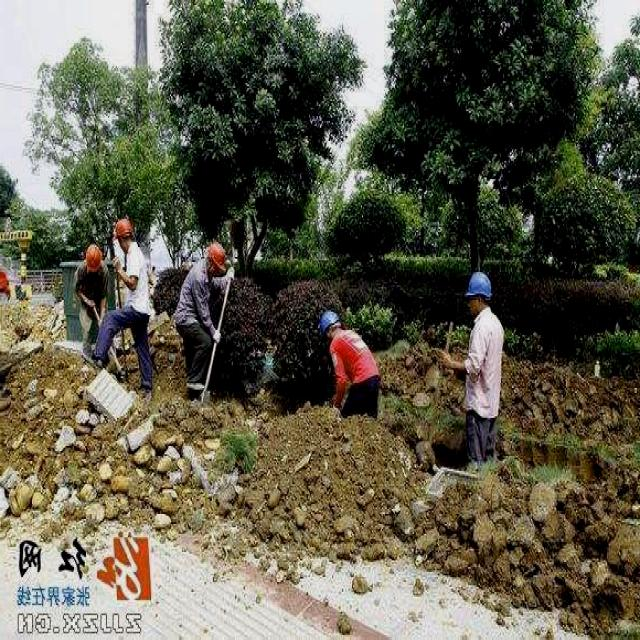hand_glove: (224, 267, 237, 292), (208, 330, 223, 348)
hand_noglove: (435, 343, 452, 375), (110, 252, 125, 280)
head_helmet: (462, 269, 494, 300), (204, 237, 229, 275), (82, 242, 104, 274), (110, 214, 132, 239), (319, 313, 340, 335)
person: (456, 264, 504, 464), (95, 210, 150, 372), (177, 234, 230, 396), (320, 308, 384, 418), (73, 232, 107, 337)
